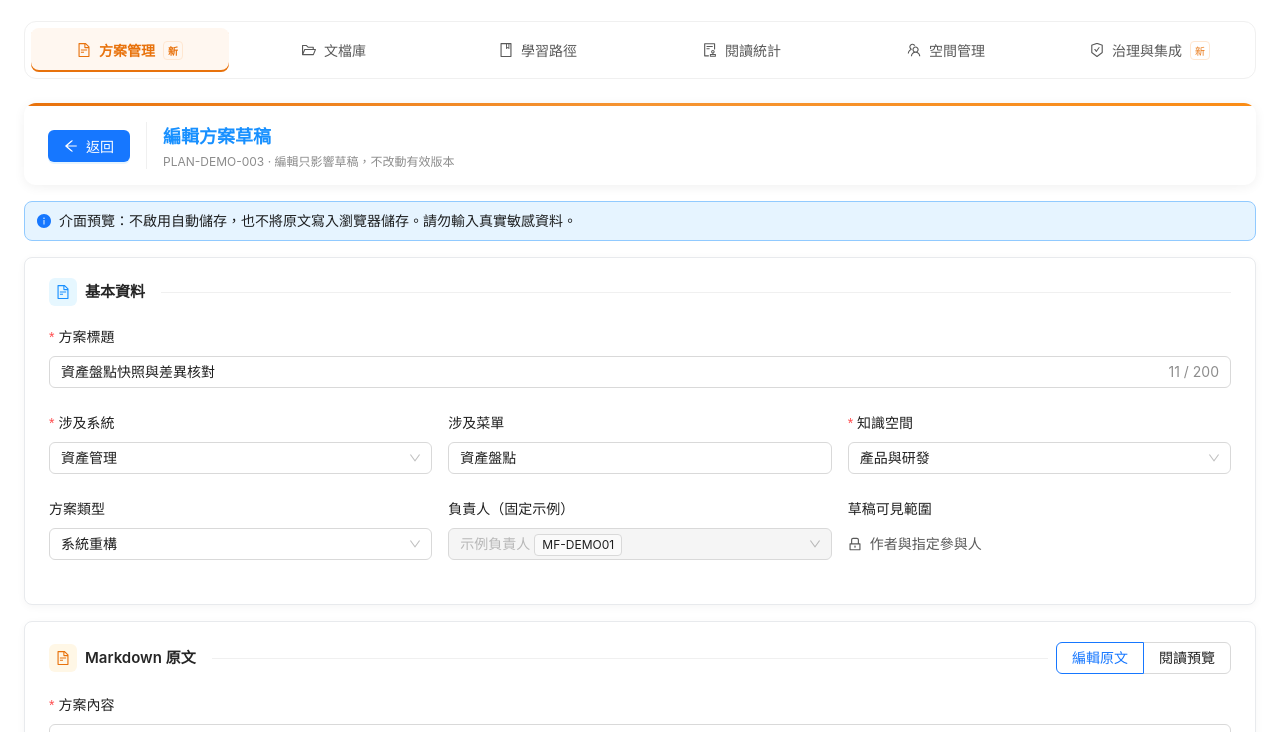
Test: 文档中心第一阶段隔离预览 › 修改草稿标题不会覆盖当前有效版，也不持久化原文
(page scrolled)
Step 1. Replace the text in the field labelled "方案標題" with "只屬於新草稿的標題" → (613, 372), box [61,361,1164,383]
(page scrolled)
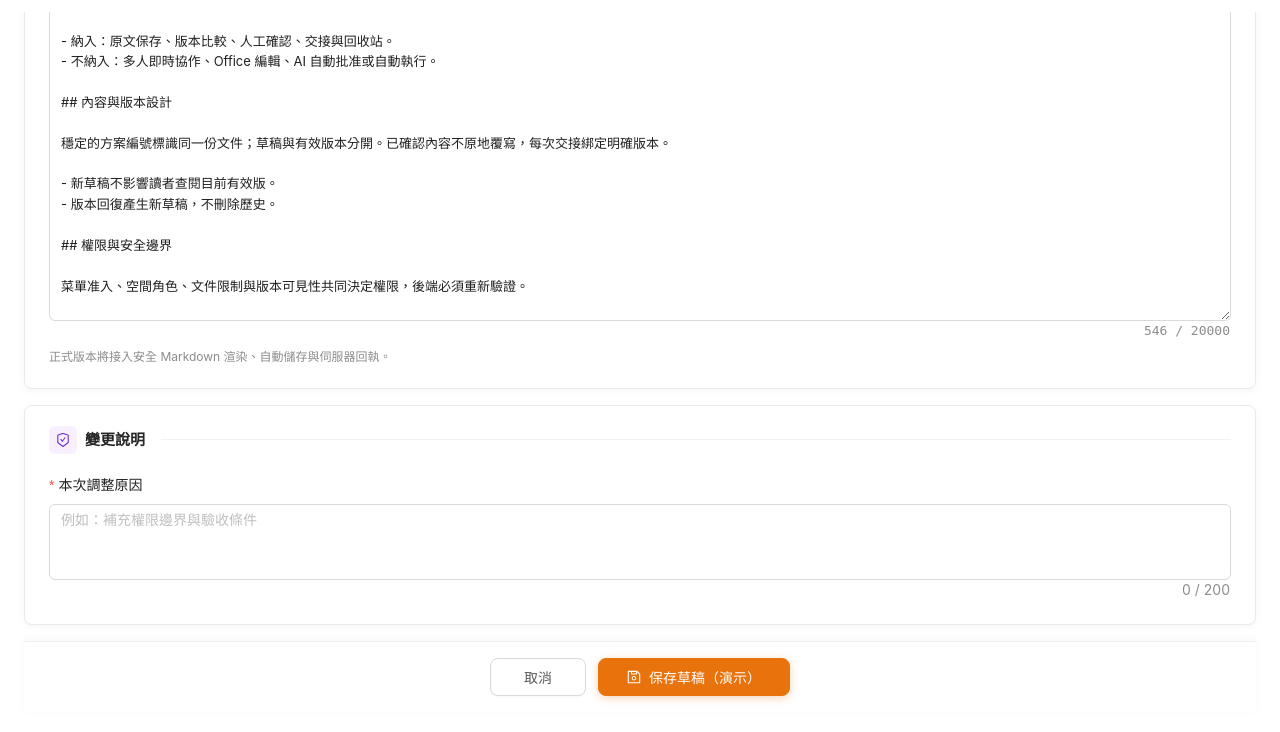
Step 2. Type "補充範圍" into the text box labelled "本次調整原因" → (640, 542), box [50,505,1230,579]
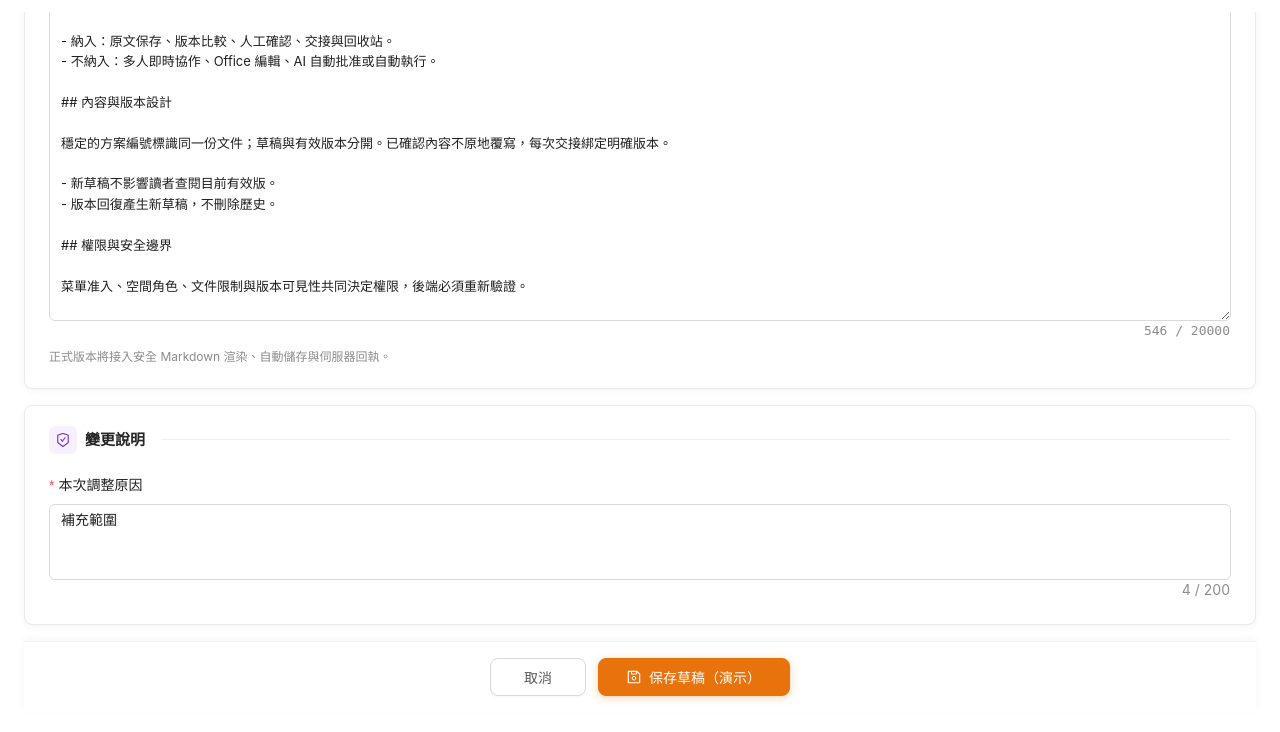
Step 3. Click the button "保存草稿（演示）" → (694, 677), box [598,658,790,696]
(page scrolled)
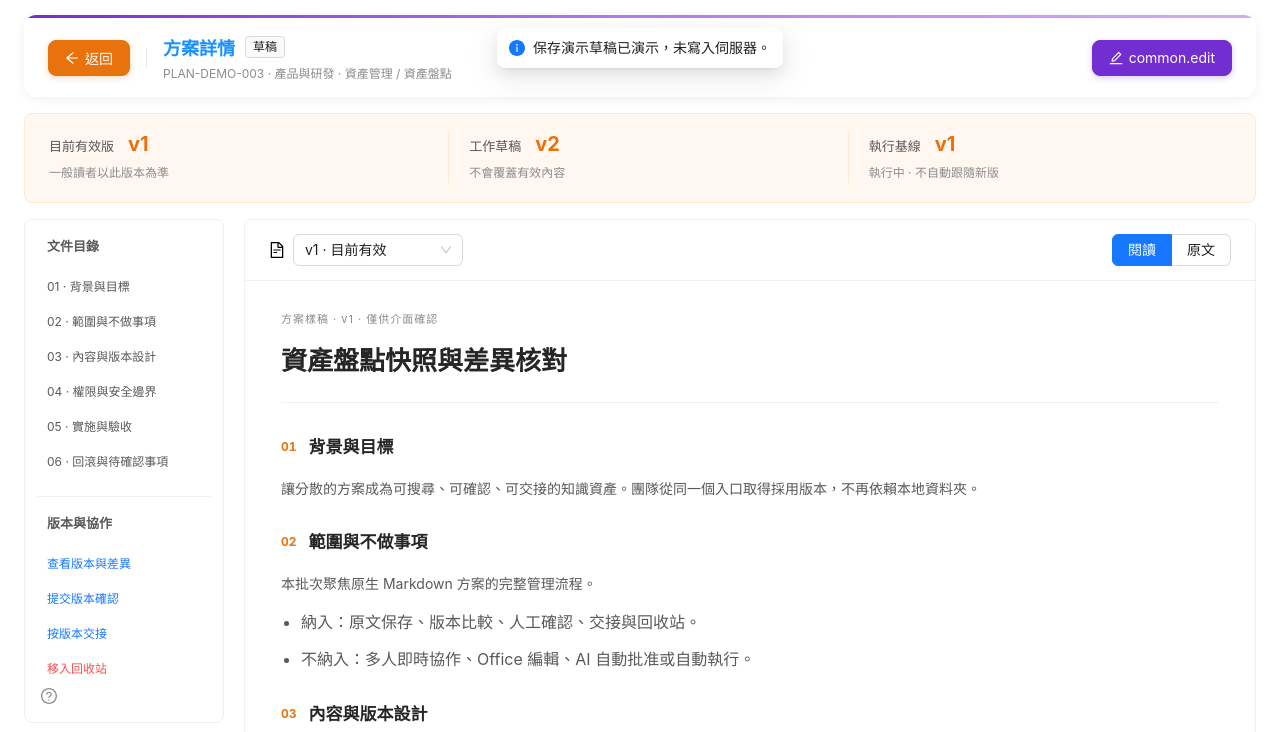
Expected: the heading "方案詳情" is shown, [163,34,235,60]
Expected: the heading "資產盤點快照與差異核對" is shown, [281,341,1219,403]
